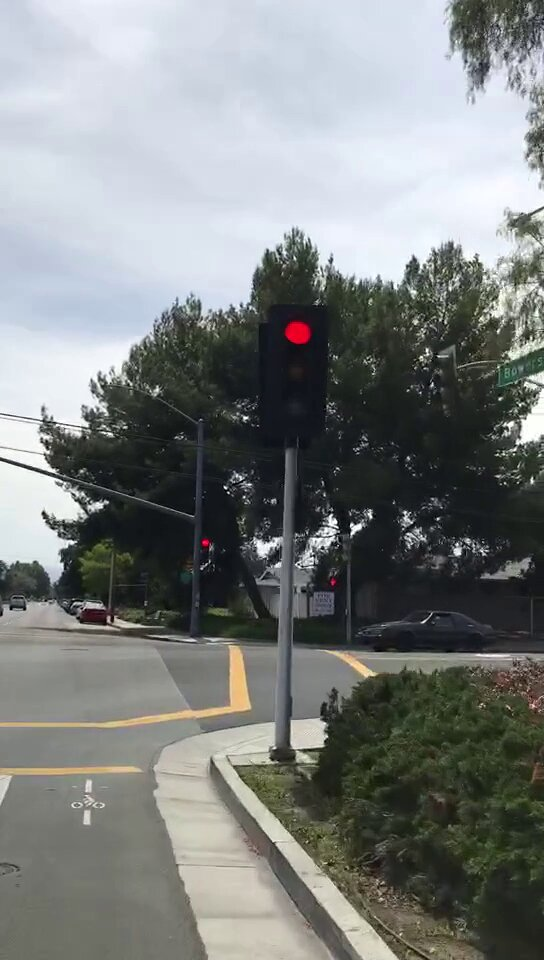red_light: (267, 312, 328, 431), (197, 535, 211, 560)
